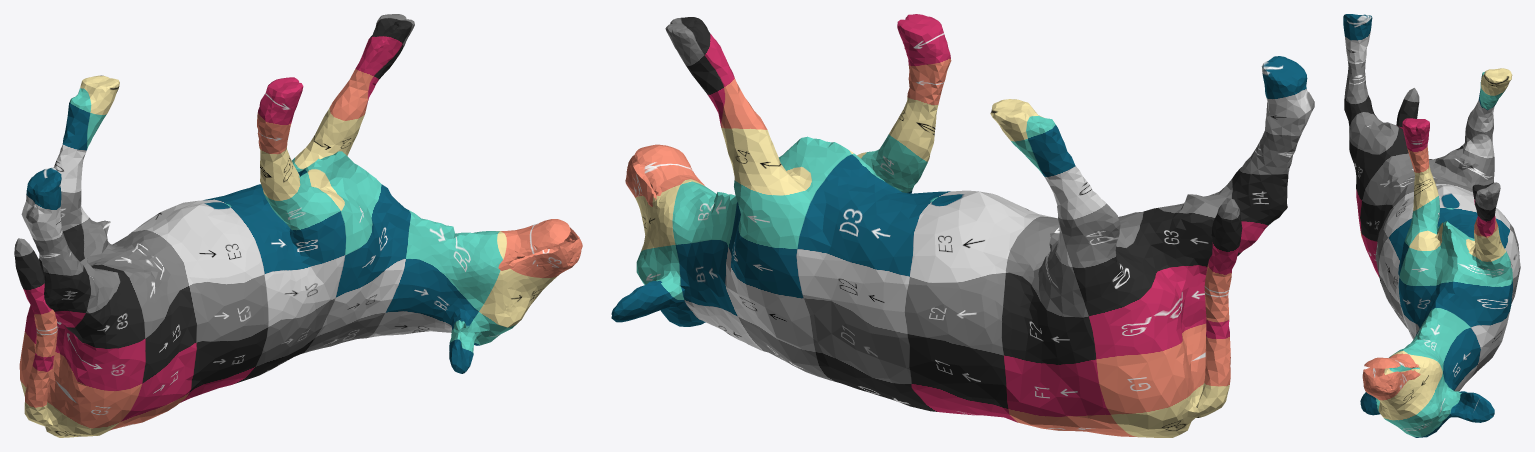
File: horse_04-cow_03.obj
3 renders of one model, left to right at view 1: azimuth 30°, elevation 25°; view 2: azimuth 150°, elevation 25°; view 3: azimuth 270°, elevation 25°, orthographic. The views are drawn at different scales.
Visible parts, largest first — view 1: horse_04-cow_03_export; view 2: horse_04-cow_03_export; view 3: horse_04-cow_03_export.
Part boxes in pixels (left/top/right/bottom): horse_04-cow_03_export: left=14, top=14, right=582, bottom=437; horse_04-cow_03_export: left=611, top=14, right=1314, bottom=437; horse_04-cow_03_export: left=1343, top=14, right=1520, bottom=437.
Bounding box in the file's own units: 1 × 0.5262 × 0.3449.
